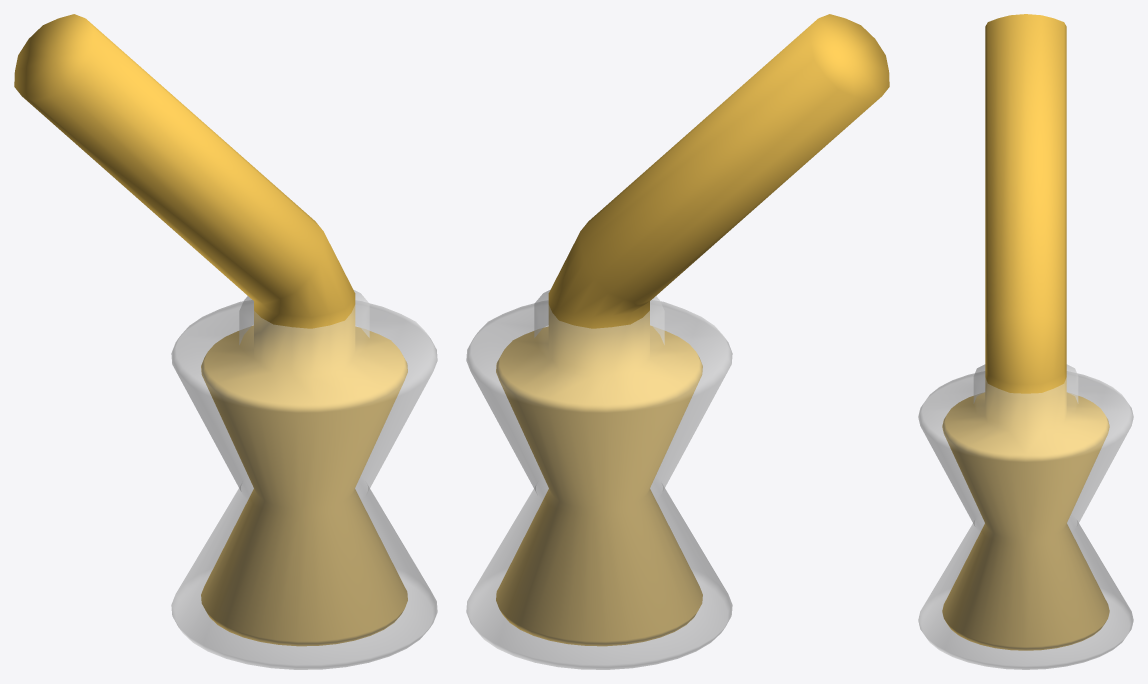
The model's file is ConcavePotionOpen.fbx.
3 views of the same model, side by side, from view 1: azimuth 30°, elevation 25°; view 2: azimuth 150°, elevation 25°; view 3: azimuth 270°, elevation 25° (orthographic). The views are drawn at different scales.
Parts seen in each view (by area): view 1: ConcavePotionOpen; view 2: ConcavePotionOpen; view 3: ConcavePotionOpen.
Part boxes in pixels (<box>): ConcavePotionOpen: <box>14,14,437,669</box>; ConcavePotionOpen: <box>466,14,889,669</box>; ConcavePotionOpen: <box>918,14,1133,669</box>.
Size of the model in its own units: 270 by 421 by 156.
